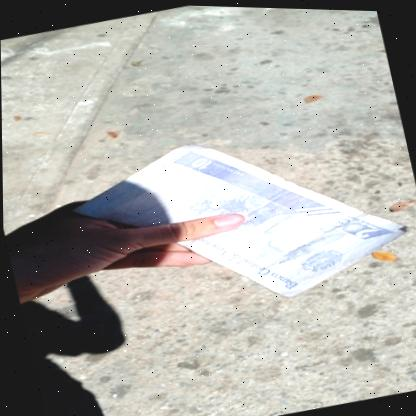vef_back: (62, 98, 416, 340)
